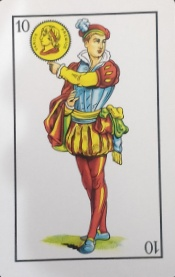10o: (10, 9, 160, 36)
